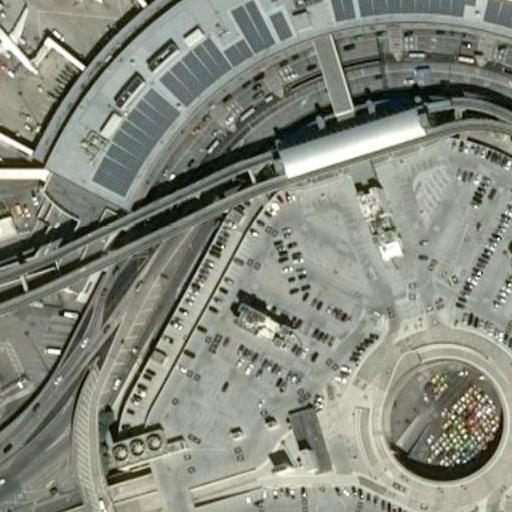Aircraft: (0, 0, 34, 80), (22, 0, 95, 5)
